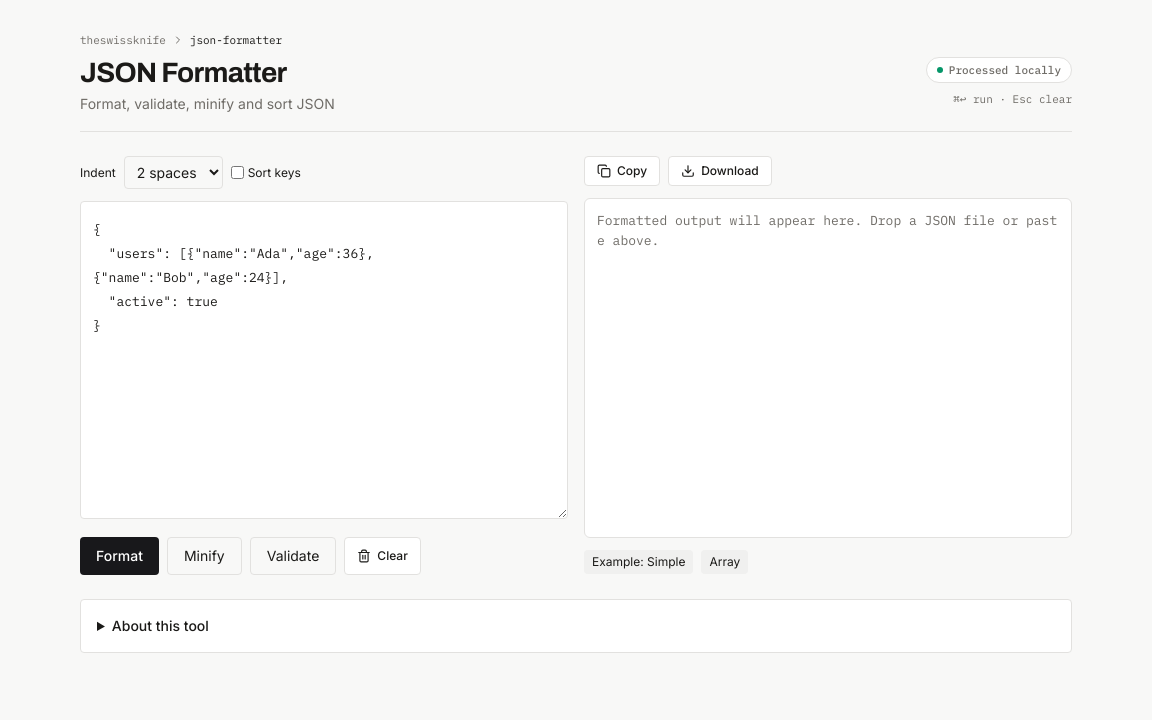
Scenario: JSON Formatter › minifies
Click the button "Minify": x=204, y=556 [167,537,242,575]
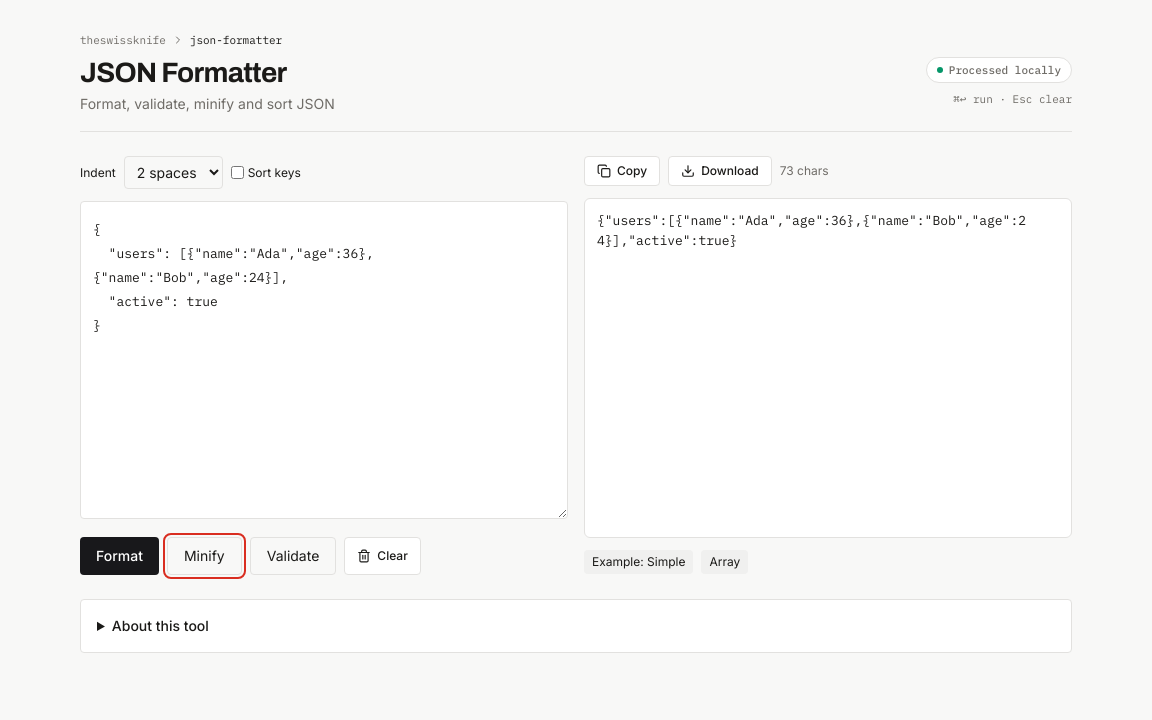
Check: the text "\"users\"" is shown, box [597,212,1026,249]
